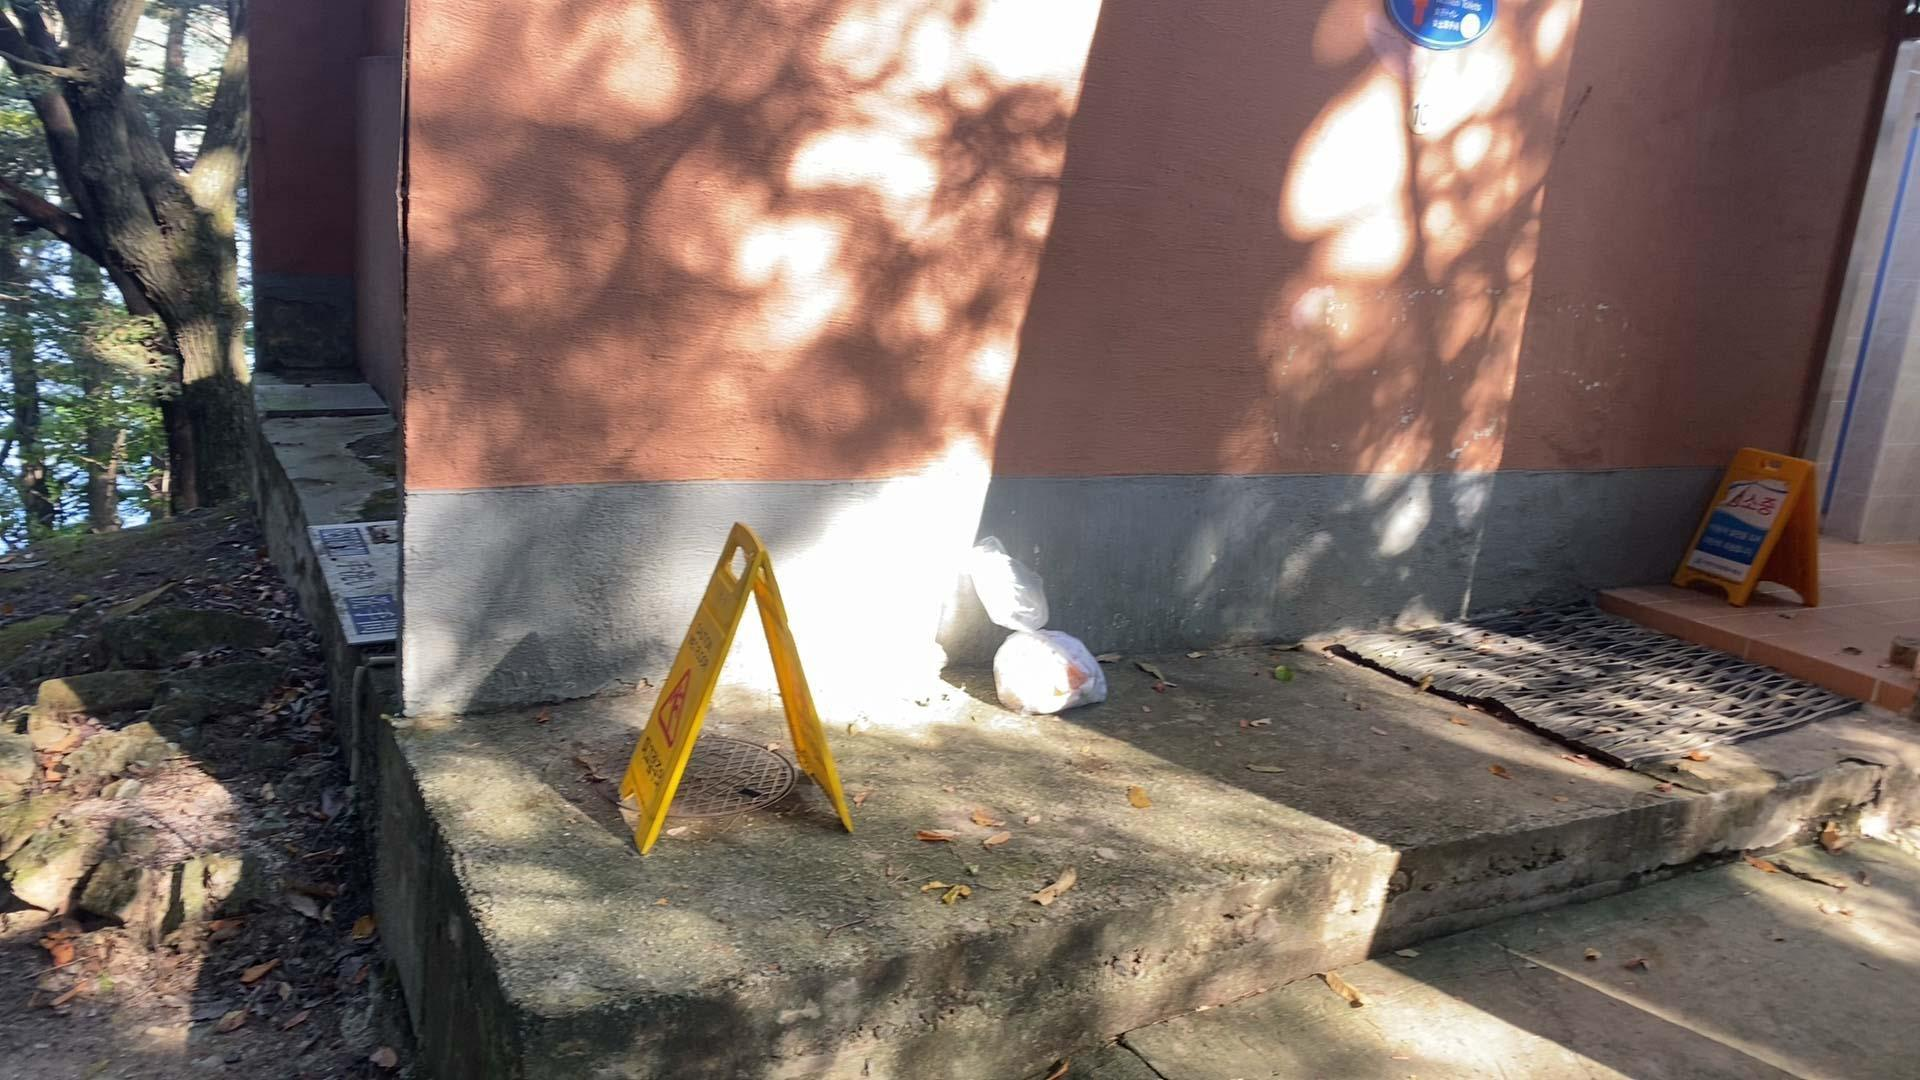white_bag: (952, 520, 1120, 724)
